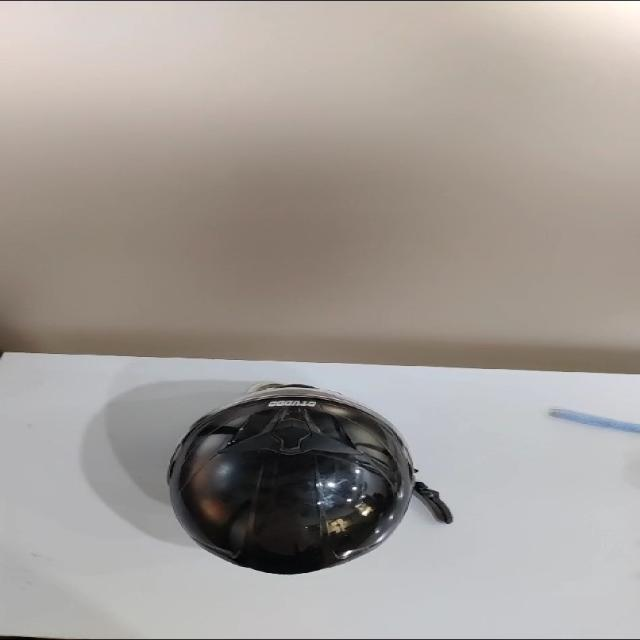helmet: (169, 383, 451, 574)
